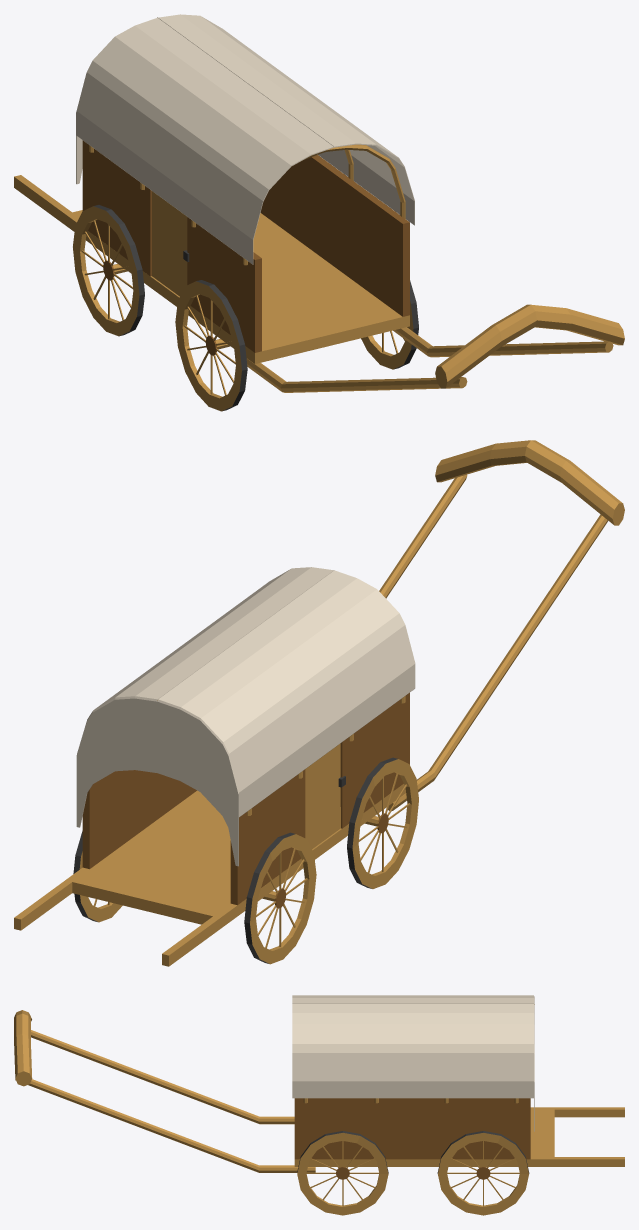
Rendered from TradeExtra.fbx.
3 renders of one model, top to bottom at view 1: azimuth 30°, elevation 25°; view 2: azimuth 150°, elevation 25°; view 3: azimuth 270°, elevation 25°, orthographic. The views are drawn at different scales.
Parts seen in each view (by area): view 1: Balanced, Balanced.001; view 2: Balanced, Balanced.001; view 3: Balanced, Balanced.001.
Boxes of the visible parts, left/top/right/bottom form: Balanced: left=14, top=140, right=624, bottom=411; Balanced.001: left=76, top=14, right=414, bottom=264; Balanced: left=14, top=440, right=624, bottom=966; Balanced.001: left=76, top=567, right=415, bottom=866; Balanced: left=14, top=1010, right=624, bottom=1215; Balanced.001: left=292, top=995, right=534, bottom=1131.
Size of the model in its own units: 1.16 by 1.66 by 5.04.
